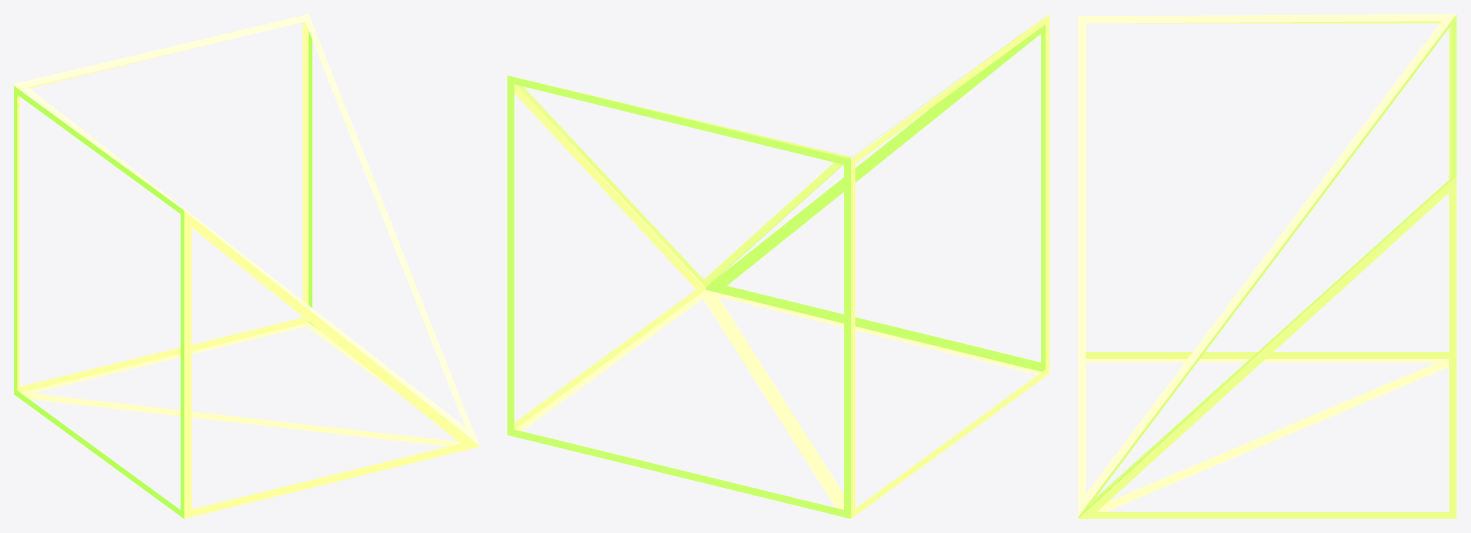
Rendered from r1c1_highlight_green.gltf.
3 views of the same model, side by side, from view 1: azimuth 30°, elevation 25°; view 2: azimuth 150°, elevation 25°; view 3: azimuth 270°, elevation 25° (orthographic). The views are drawn at different scales.
Visible parts, largest first — view 1: r1c1_highlight_green2; view 2: r1c1_highlight_green2; view 3: r1c1_highlight_green2.
Boxes of the visible parts, x1=… form: r1c1_highlight_green2: x1=14, y1=14, x2=478, y2=518; r1c1_highlight_green2: x1=507, y1=14, x2=1049, y2=518; r1c1_highlight_green2: x1=1078, y1=14, x2=1456, y2=518.
Bounding box in the file's own units: 2.1 × 2.11 × 2.1.
